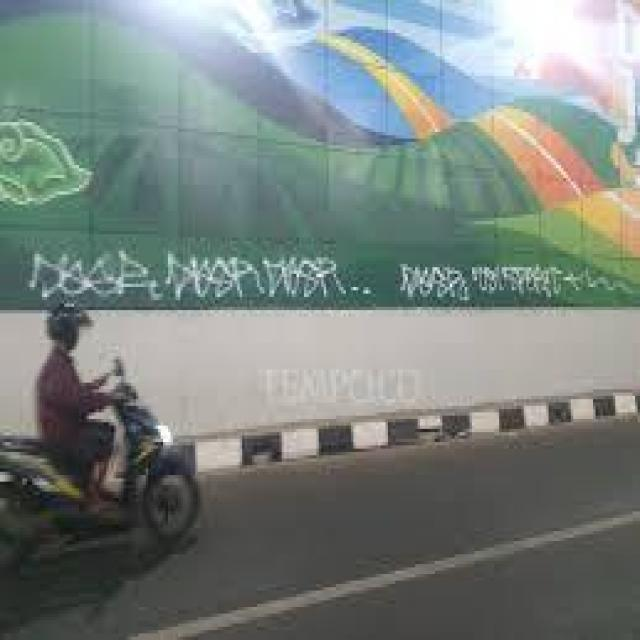nonspitting: (29, 250, 373, 300), (398, 260, 638, 298)
